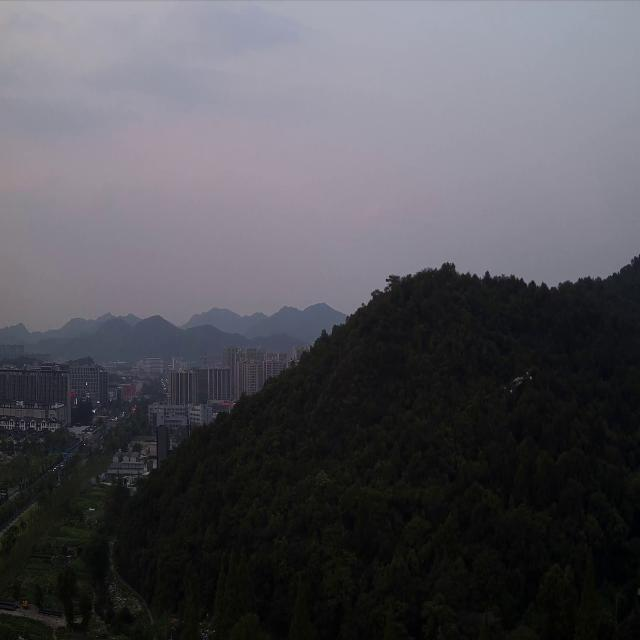UAV: (502, 370, 533, 396)
